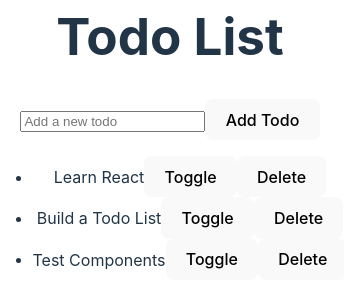
deletes a todo
Note: Find and click the delete button
Click the button "Delete" in the row of "Learn React" at (282, 177), box [237, 156, 326, 198]
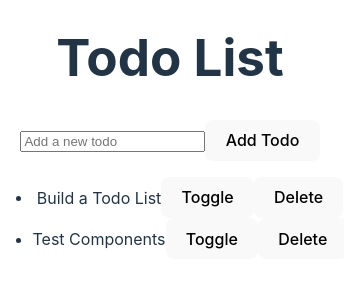
Result: the list item "Learn React" is gone
